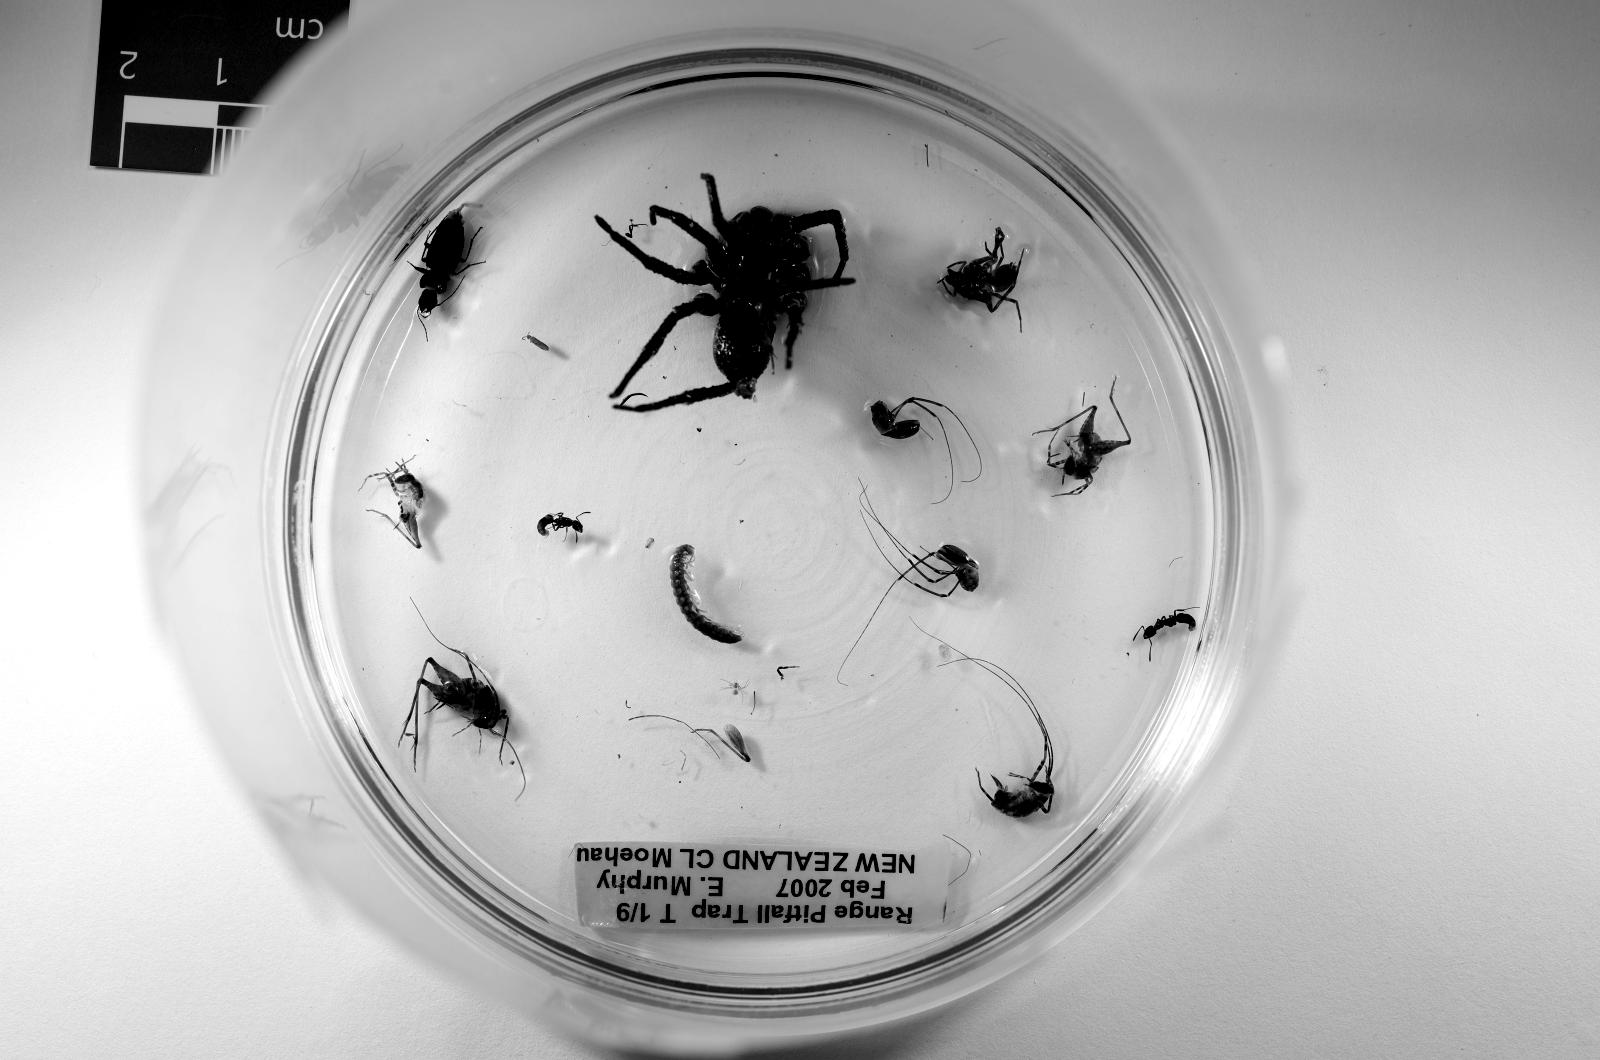araneae: (597, 174, 853, 409), (940, 227, 1022, 329)
carabidae: (415, 208, 468, 317)
collembola: (525, 336, 550, 351)
diplopoda: (669, 543, 744, 642)
formicidae: (1134, 608, 1197, 661), (538, 512, 584, 537)
opiliones: (862, 493, 978, 596), (715, 672, 752, 702)
orthoptera: (957, 652, 1054, 816), (407, 649, 510, 764), (1037, 374, 1132, 493), (369, 463, 425, 550)
